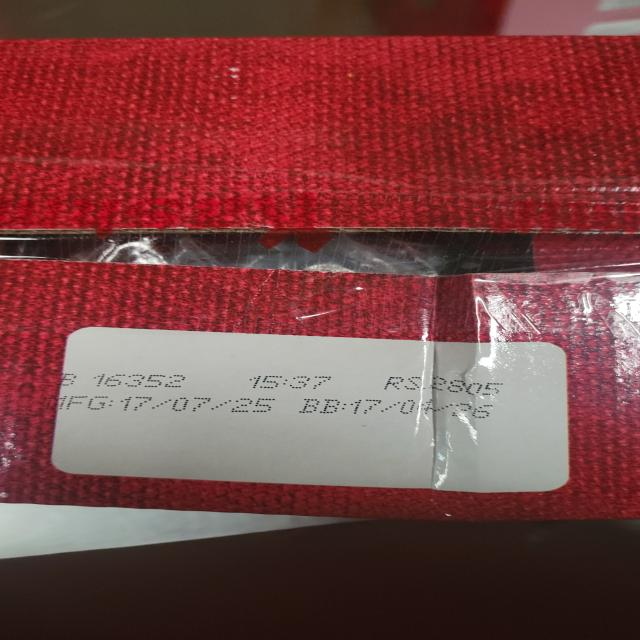BB: (296, 395, 502, 421)
Batch: (55, 373, 188, 388)
MFG: (44, 395, 286, 415)
RS: (385, 376, 500, 395)
TimeStamp: (247, 375, 334, 390)
